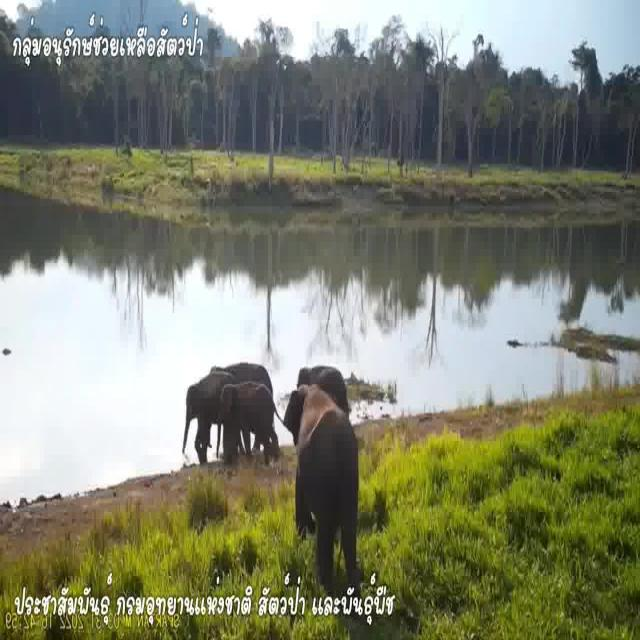Elephant: (292, 388, 366, 560), (172, 367, 237, 453), (214, 383, 280, 461)
